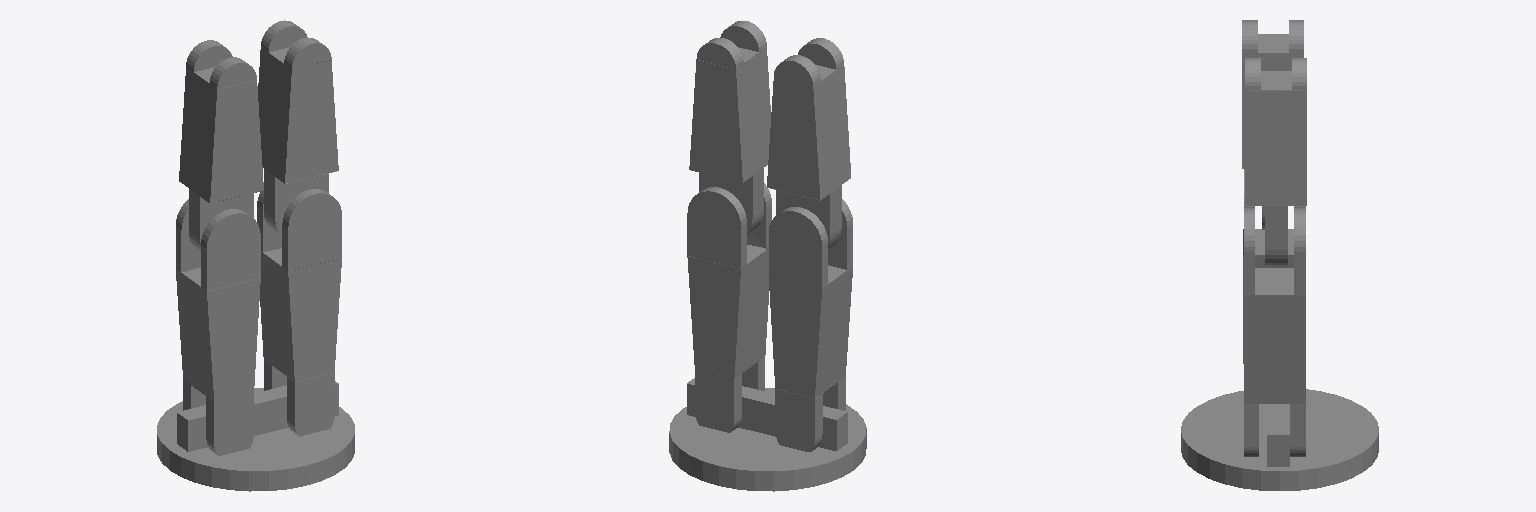
URDF robot description (lbr_iiwa):
<?xml version="1.0" ?>
<robot name="lbr_iiwa" xmlns:xacro="http://www.ros.org/wiki/xacro">
    <!-- Import Rviz colors -->
    <material name="Grey">
        <color rgba="0.6 0.6 0.6 1.0"/>
    </material>
    <material name="Orange">
        <color rgba="1.0 0.3 0.0 1.0"/>
    </material>
    <material name="Blue">
        <color rgba="0.1 0.3 1.0 1.0"/>      
    </material>

    <link name="base">
        <inertial>
            <origin rpy="0 0 0" xyz="0 0 0"/>
            <!--Increase mass from 5 Kg original to provide a stable base to carry the
          arm.-->
      <mass value="0.0"/>
      <inertia ixx="0.0" ixy="0" ixz="0" iyy="0.0" iyz="0" izz="0.0"/>
  </inertial>
  <visual>
      <origin rpy="0 0 0" xyz="0 0 0"/>
      <geometry>
          <mesh filename="package://gripper_description/meshes/base.stl"/>
      </geometry>
      <material name="Grey"/>
  </visual>
  <collision>
      <origin rpy="0 0 0" xyz="0 0 0"/>
      <geometry>
          <mesh filename="package://gripper_description/meshes/base.stl"/>
      </geometry>
  </collision>
  </link>
  <!-- joint between link_0 and link_1 -->
  <joint name="base_to_finger00_joint" type="revolute">
      <parent link="base"/>
      <child link="finger_00"/>
      <origin rpy="0 0 0" xyz="1.5 0 0"/>
      <axis xyz="0 1 0"/>
      <limit effort="300" lower="0" upper="1.5707963267948966" velocity="10"/>
      <dynamics damping="0.5"/>
  </joint>
  <link name="finger_00">
      <inertial>
          <origin rpy="0 0 0" xyz="0 0 0"/>
          <mass value="1"/>
          <inertia ixx="0.1" ixy="0" ixz="0" iyy="0.09" iyz="0" izz="0.02"/>
      </inertial>
      <visual>
          <origin rpy="0 0 0" xyz="0 0 0"/>
          <geometry>
              <mesh filename="package://gripper_description/meshes/finger_0.stl"/>
          </geometry>
          <material name="Grey"/>
      </visual>
      <collision>
          <origin rpy="0 0 0" xyz="0 0 0"/>
          <geometry>
              <mesh filename="package://gripper_description/meshes/finger_0.stl"/>
          </geometry>
      </collision>
  </link> 
  <!-- joint between link_1 and link_2 -->
  <joint name="finger00_to_finger01_joint" type="revolute">
      <parent link="finger_00"/>
      <child link="finger_01"/>
      <origin rpy="0 0 0" xyz="0 0 7"/>
      <axis xyz="0 1 0"/>
      <limit effort="300" upper="-1.5707963267948966" lower="0" velocity="10"/>
      <dynamics damping="0.5"/>
  </joint>  
  <link name="finger_01">
      <inertial>
          <origin rpy="0 0 0" xyz="0 0 0"/>
          <mass value="1"/>
          <inertia ixx="0.1" ixy="0" ixz="0" iyy="0.09" iyz="0" izz="0.02"/>
      </inertial>
      <visual>
          <origin rpy="0 0 0" xyz="0 0 0"/>
          <geometry>
              <mesh filename="package://gripper_description/meshes/finger_1.stl"/>
          </geometry>
          <material name="Grey"/>
      </visual>
      <collision>
          <origin rpy="0 0 0" xyz="0 0 0"/>
          <geometry>
              <mesh filename="package://gripper_description/meshes/finger_1.stl"/>
          </geometry>
      </collision>
  </link> 





  <!-- joint between link_0 and link_3 -->
  <joint name="base_to_finger10_joint" type="revolute">
      <parent link="base"/>
      <child link="finger_10"/>
      <origin rpy="0 0 3.141592653589793" xyz="-1.5 0 0"/>
      <axis xyz="0 1 0"/>
      <limit effort="300" lower="0" upper="1.5707963267948966" velocity="10"/>
      <dynamics damping="0.5"/>
  </joint>
  <link name="finger_10">
      <inertial>
          <origin rpy="0 0 0" xyz="0 0 0"/>
          <mass value="1"/>
          <inertia ixx="0.1" ixy="0" ixz="0" iyy="0.09" iyz="0" izz="0.02"/>
      </inertial>
      <visual>
          <origin rpy="0 0 0" xyz="0 0 0"/>
          <geometry>
              <mesh filename="package://gripper_description/meshes/finger_0.stl"/>
          </geometry>
          <material name="Grey"/>
      </visual>
      <collision>
          <origin rpy="0 0 0" xyz="0 0 0"/>
          <geometry>
              <mesh filename="package://gripper_description/meshes/finger_0.stl"/>
          </geometry>
      </collision>
  </link> 
  <!-- joint between link_1 and link_2 -->
  <joint name="finger10_to_finger11_joint" type="revolute">
      <parent link="finger_10"/>
      <child link="finger_11"/>
      <origin rpy="0 0 0" xyz="0 0 7"/>
      <axis xyz="0 1 0"/>
      <limit effort="300" upper="-1.5707963267948966" lower="0" velocity="10"/>
      <dynamics damping="0.5"/>
  </joint>  
  <link name="finger_11">
      <inertial>
          <origin rpy="0 0 0" xyz="0 0 0"/>
          <mass value="1"/>
          <inertia ixx="0.1" ixy="0" ixz="0" iyy="0.09" iyz="0" izz="0.02"/>
      </inertial>
      <visual>
          <origin rpy="0 0 0" xyz="0 0 0"/>
          <geometry>
              <mesh filename="package://gripper_description/meshes/finger_1.stl"/>
          </geometry>
          <material name="Grey"/>
      </visual>
      <collision>
          <origin rpy="0 0 0" xyz="0 0 0"/>
          <geometry>
              <mesh filename="package://gripper_description/meshes/finger_1.stl"/>
          </geometry>
      </collision>
  </link> 
</robot>

--- Facts derived from the render (not from the file) ---
Views: 3 orthographic renders of the robot side by side, from view 1: azimuth 30°, elevation 25°; view 2: azimuth 150°, elevation 25°; view 3: azimuth 270°, elevation 25°.
Model lbr_iiwa with 5 links and 4 joints (4 revolute), rooted at base, posed all joints at 0.
Links seen in each view (by area): view 1: finger_10, finger_00, finger_11, finger_01, base; view 2: finger_10, finger_00, finger_11, finger_01, base; view 3: base, finger_00, finger_01, finger_11, finger_10.
Boxes of the visible links, bbox=[...] form: finger_10: bbox=[176, 199, 260, 455]; finger_00: bbox=[257, 189, 341, 436]; finger_11: bbox=[179, 40, 263, 251]; finger_01: bbox=[258, 20, 338, 236]; base: bbox=[157, 381, 354, 491]; finger_10: bbox=[769, 199, 852, 451]; finger_00: bbox=[687, 183, 771, 432]; finger_11: bbox=[767, 38, 850, 249]; finger_01: bbox=[689, 21, 770, 234]; base: bbox=[669, 378, 866, 491]; base: bbox=[1181, 389, 1378, 490]; finger_00: bbox=[1244, 208, 1305, 456]; finger_01: bbox=[1245, 58, 1306, 266]; finger_11: bbox=[1242, 20, 1303, 229]; finger_10: bbox=[1243, 169, 1305, 363].
Size in the robot's own frame: 6.38 by 6.38 by 14.49 metres.
5 mesh visuals loaded from 3 distinct referenced files (3 binary STL).